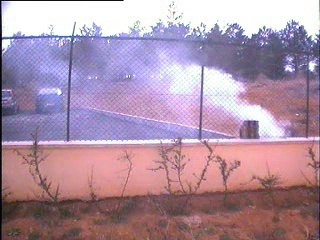smoke: (112, 37, 290, 139)
